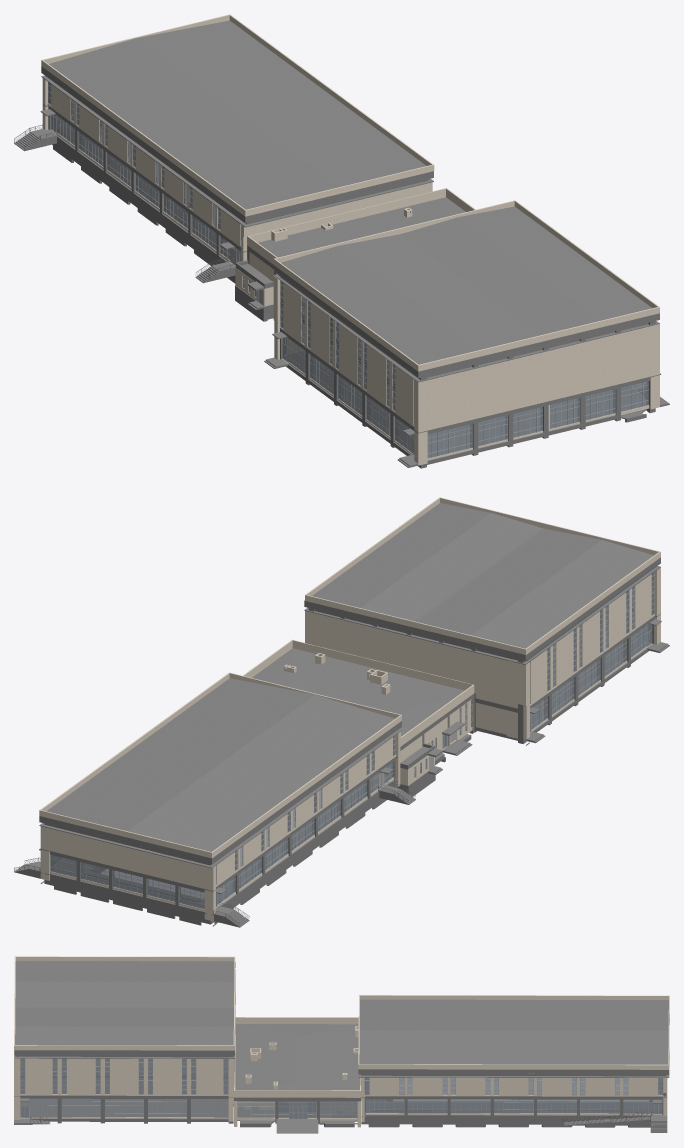
The model's file is wtg.gltf.
3 views of the same model, one above another, from view 1: azimuth 30°, elevation 25°; view 2: azimuth 150°, elevation 25°; view 3: azimuth 270°, elevation 25° (orthographic). The views are drawn at different scales.
Parts seen in each view (by area): view 1: wtgdc01, wtg1c01; view 2: wtgdc01, wtg1c01; view 3: wtgdc01, wtg1c01.
Part boxes in pixels (box(x1,y1,x2,y2)): wtgdc01: box(41, 14, 659, 371); wtg1c01: box(14, 66, 669, 468); wtgdc01: box(39, 497, 660, 858); wtg1c01: box(14, 557, 669, 927); wtgdc01: box(14, 956, 669, 1097); wtg1c01: box(14, 962, 669, 1133).
Size of the model in its own units: 48.42 by 18.95 by 128.
6 materials, 2 textured.
